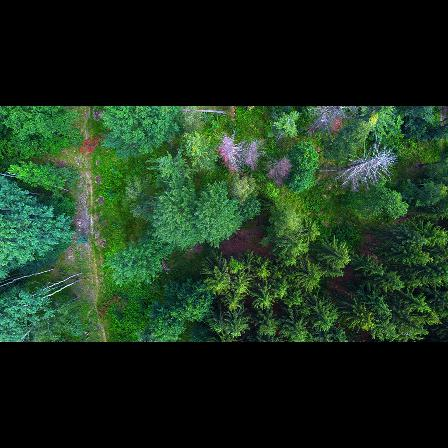Dead: (334, 141, 400, 186), (304, 105, 350, 137), (215, 136, 239, 174), (266, 155, 294, 182), (245, 138, 266, 168)
